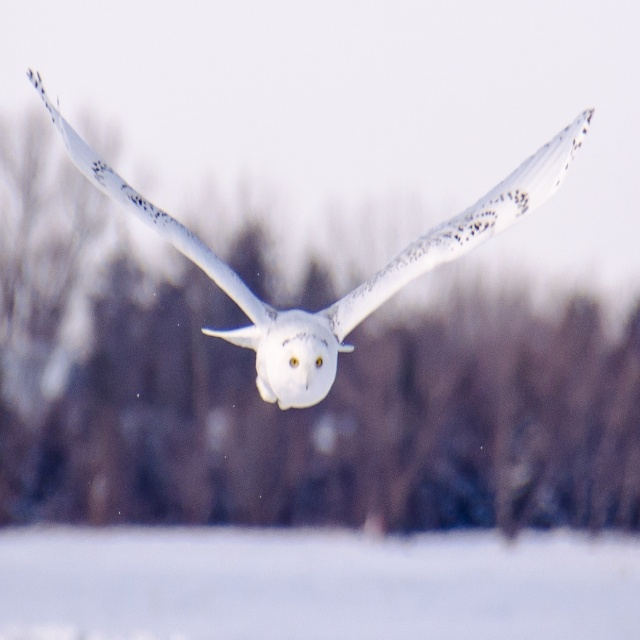Owl: (25, 68, 597, 414)
